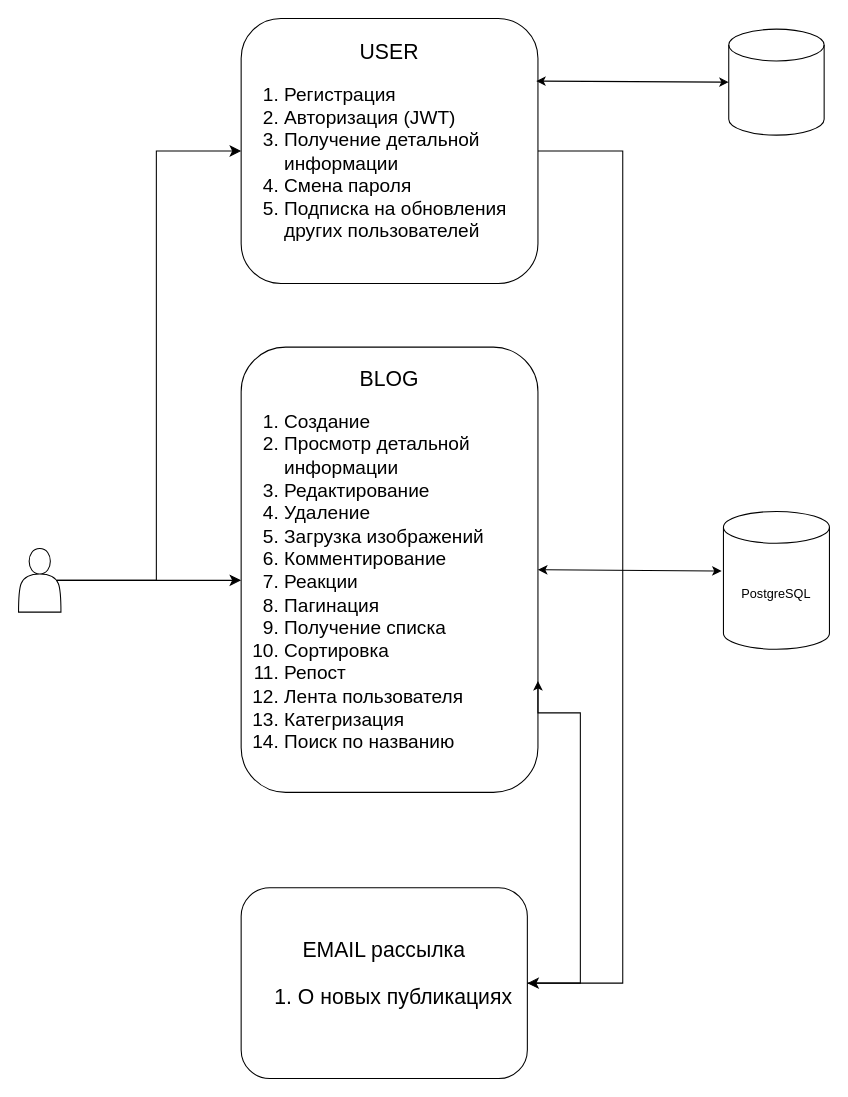
The diagram is 848 pixels wide and 1097 high, and some of its shapes have lost their labels. Each missing label, with the box of its shape:
HTTP: (17, 547, 61, 612)
MONGODB: (728, 28, 824, 135)
